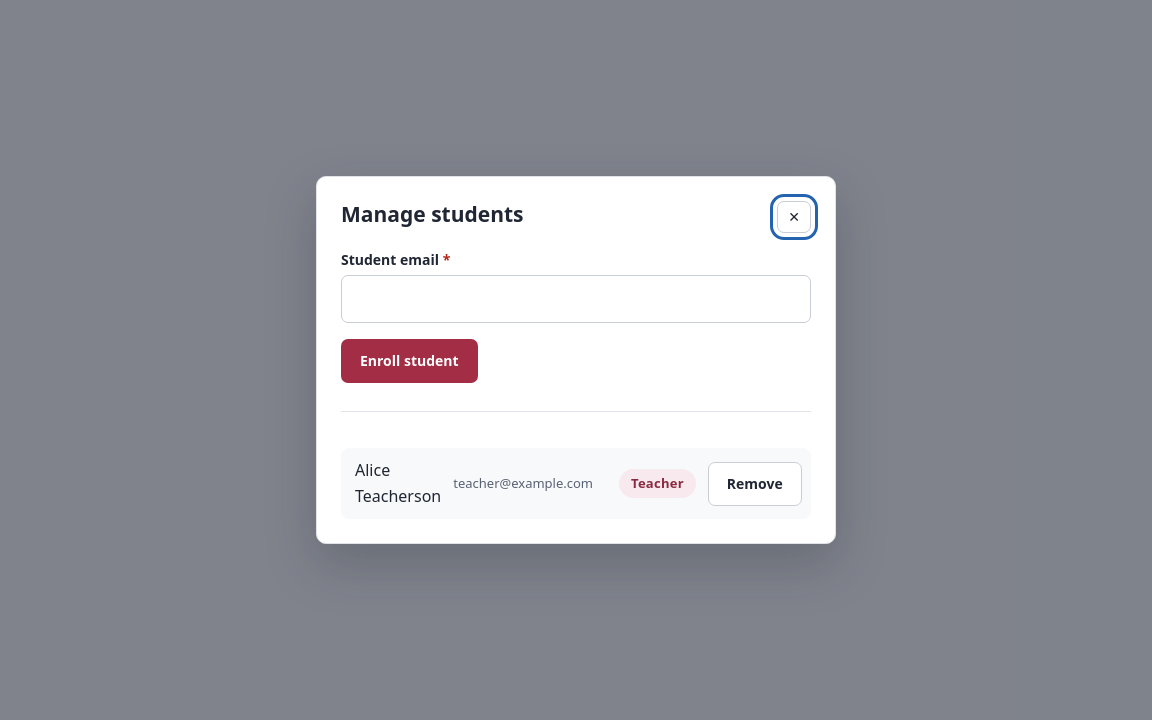
Test: ManageEnrollmentsModal › shows an error when enrolling an unknown email
expect the text "teacher@example.com" is shown: met, box [453,474,593,494]
Type "nobody@example.com" into the field labelled "Student email *" at [576, 299], box [341,275,811,323]
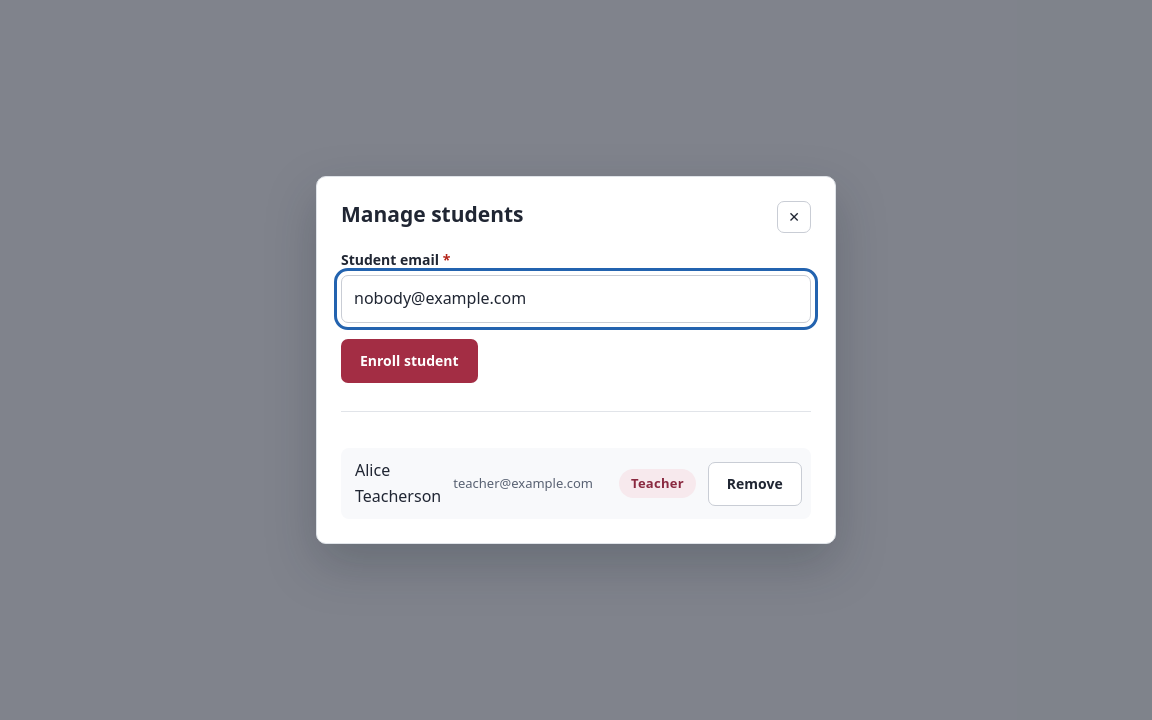
Click the button "Enroll student" at [409, 361], box [341,339,478,383]
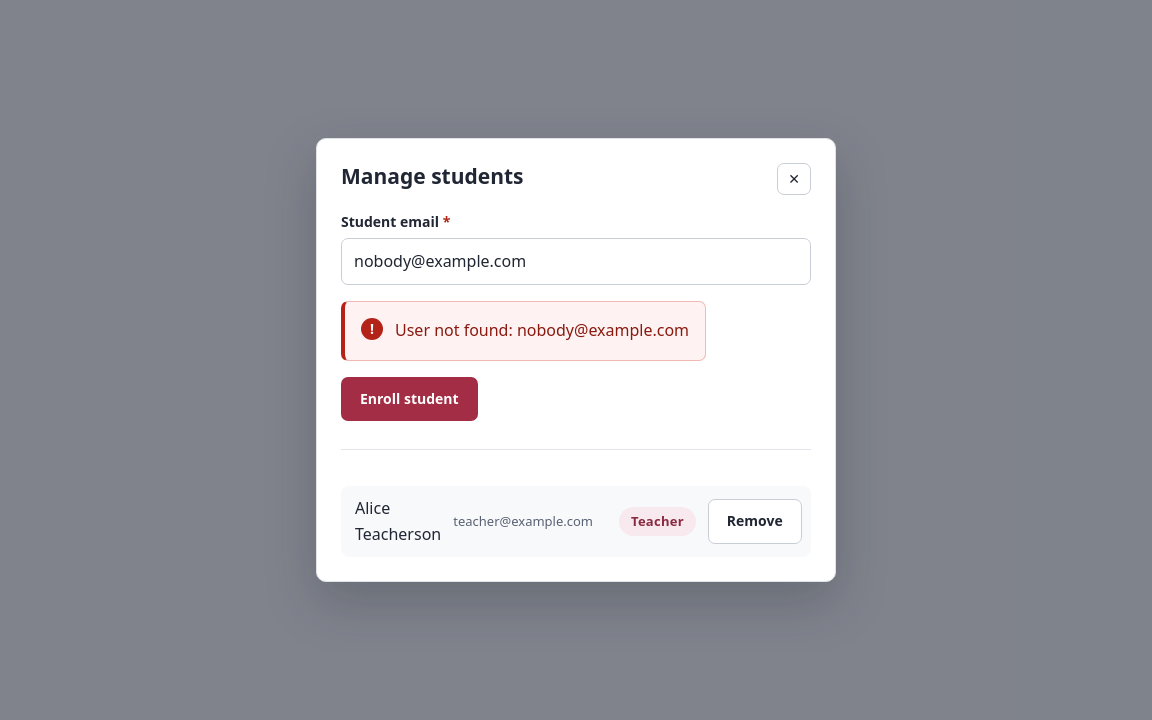
expect the message shows "User not found": met, box [395,319,689,341]
